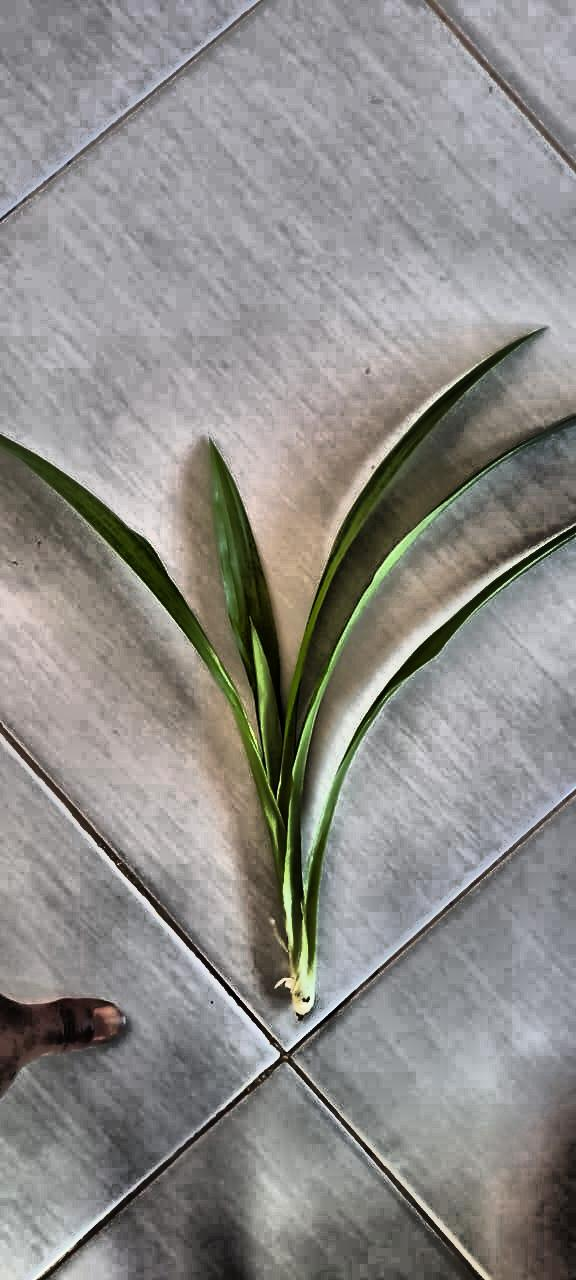daun pandan: (0, 333, 575, 1018)
